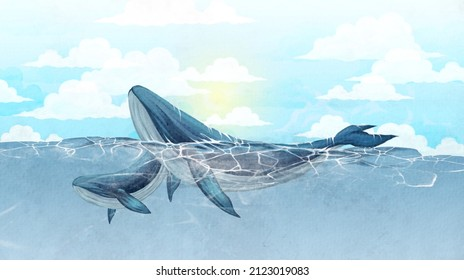fish: (128, 83, 402, 222), (71, 158, 163, 225)
